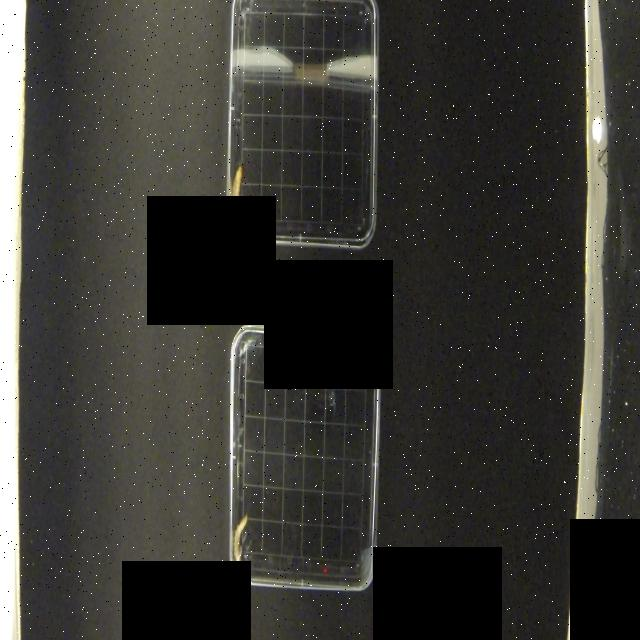larva: (232, 163, 246, 229), (234, 514, 248, 569)
